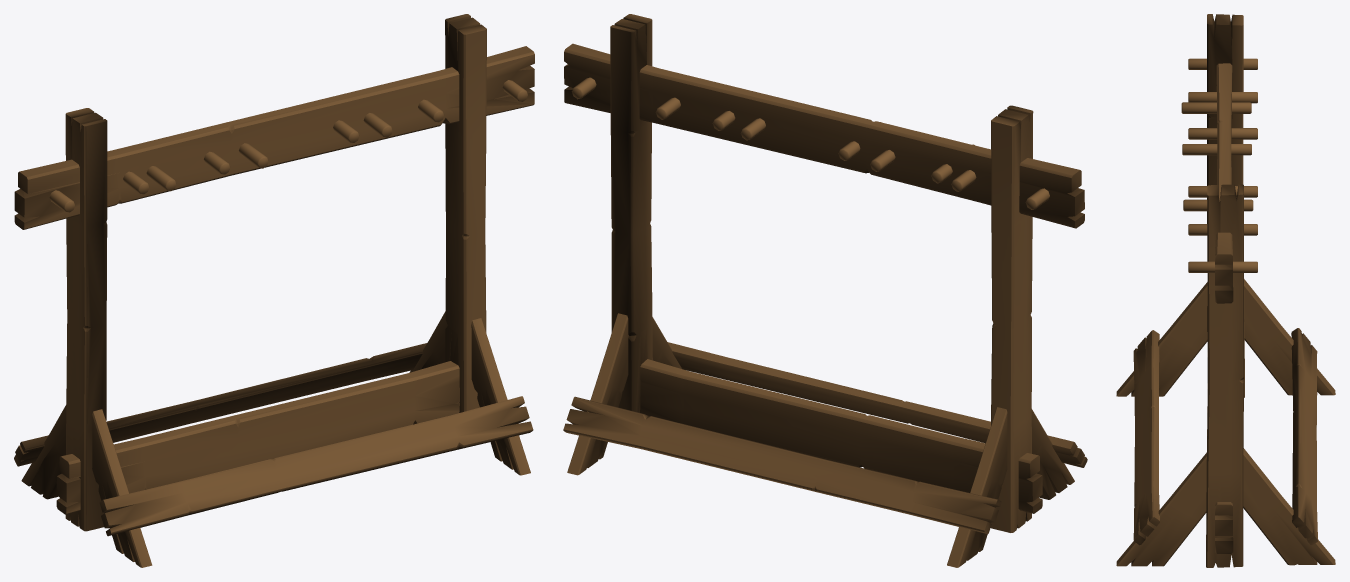
Rendered from obj_weaponRack_empty.FBX.
The picture shows the model from 3 angles, left to right: view 1: azimuth 30°, elevation 25°; view 2: azimuth 150°, elevation 25°; view 3: azimuth 270°, elevation 25°; orthographic projection. The views are drawn at different scales.
Parts seen in each view (by area): view 1: obj_weaponRack_empty; view 2: obj_weaponRack_empty; view 3: obj_weaponRack_empty.
Boxes of the visible parts, <box> form: obj_weaponRack_empty: <box>14,14,534,567</box>; obj_weaponRack_empty: <box>563,14,1087,567</box>; obj_weaponRack_empty: <box>1116,14,1335,567</box>.
Bounding box in the file's own units: 6.07 × 4.63 × 2.45.
